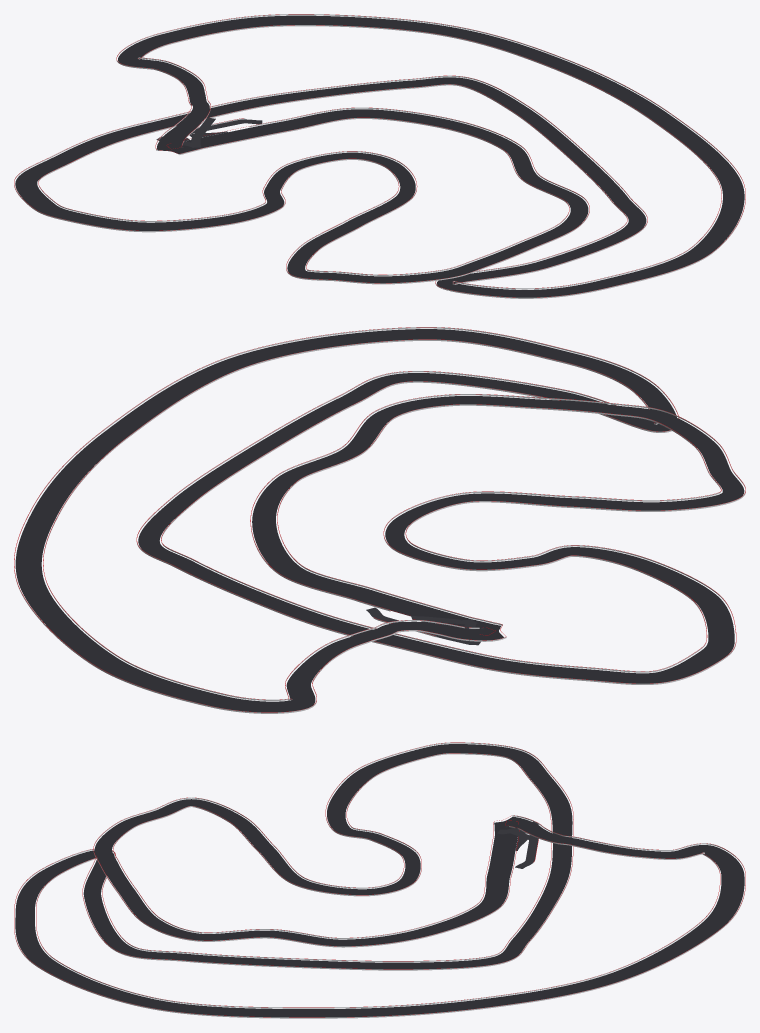
Rendered from suzuka.glb.
3 views of the same model, one above another, from view 1: azimuth 30°, elevation 25°; view 2: azimuth 150°, elevation 25°; view 3: azimuth 270°, elevation 25° (orthographic). The views are drawn at different scales.
Parts seen in each view (by area): view 1: asphalt, tecpro_left, tecpro_right, tecproCap_right, tecproCap_left, pitAsphalt; view 2: asphalt, tecpro_left, tecpro_right, tecproCap_left, tecproCap_right, pitAsphalt; view 3: asphalt, tecpro_right, tecpro_left, tecproCap_right, tecproCap_left, pitAsphalt.
Boxes of the visible parts, x1,y1,x2,y2 form: asphalt: [15, 15, 744, 297]; tecpro_left: [38, 14, 744, 298]; tecpro_right: [14, 25, 721, 289]; tecproCap_right: [14, 25, 721, 288]; tecproCap_left: [38, 14, 745, 297]; pitAsphalt: [156, 117, 262, 147]; asphalt: [15, 329, 744, 712]; tecpro_left: [14, 327, 721, 713]; tecpro_right: [43, 339, 745, 700]; tecproCap_left: [14, 327, 721, 712]; tecproCap_right: [43, 339, 745, 699]; pitAsphalt: [366, 607, 480, 645]; asphalt: [15, 744, 744, 1017]; tecpro_right: [36, 742, 719, 1008]; tecpro_left: [14, 753, 745, 1018]; tecproCap_right: [36, 742, 720, 1007]; tecproCap_left: [14, 753, 745, 1017]; pitAsphalt: [497, 821, 538, 868].
Size of the model in its own units: 676 by 11.89 by 760.
